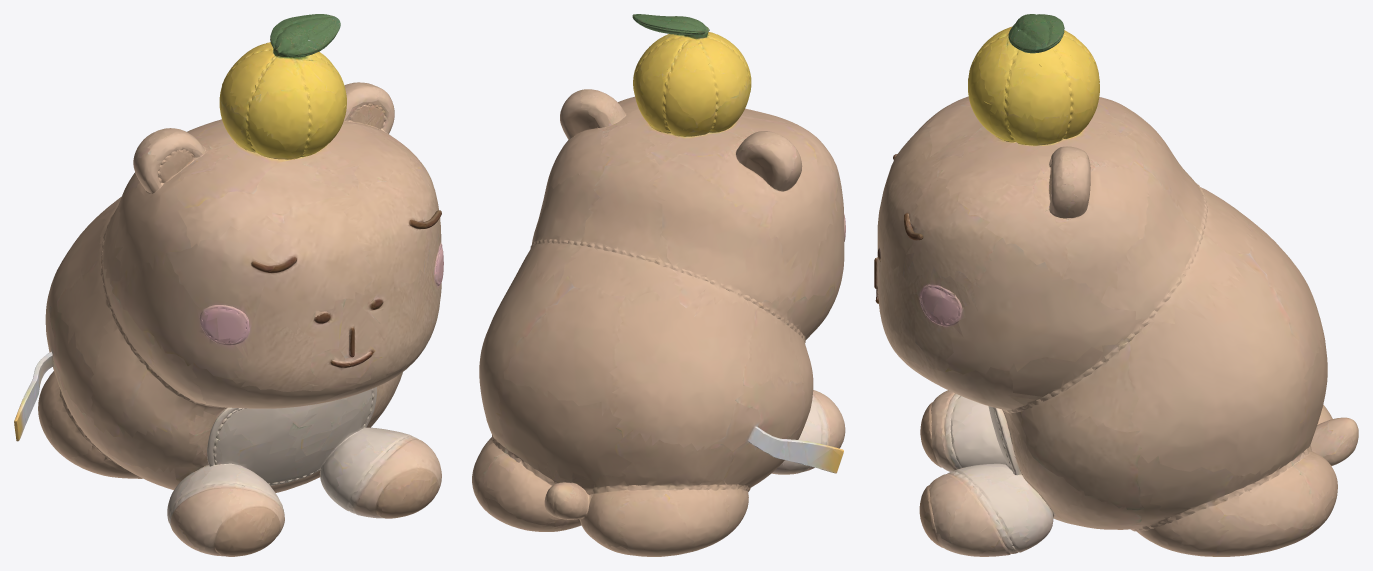
Rendered from capybara.gen.glb.
3 renders of one model, left to right at view 1: azimuth 30°, elevation 25°; view 2: azimuth 150°, elevation 25°; view 3: azimuth 270°, elevation 25°, orthographic. The views are drawn at different scales.
Parts seen in each view (by area): view 1: LOD0; view 2: LOD0; view 3: LOD0.
Part boxes in pixels (x1,y1,x2,y2): LOD0: (14,14,443,556); LOD0: (472,14,845,556); LOD0: (874,14,1358,556).
Size of what is drawn, in the model's own units: 0.1679 by 0.206 by 0.184.
1 material, 1 textured.
